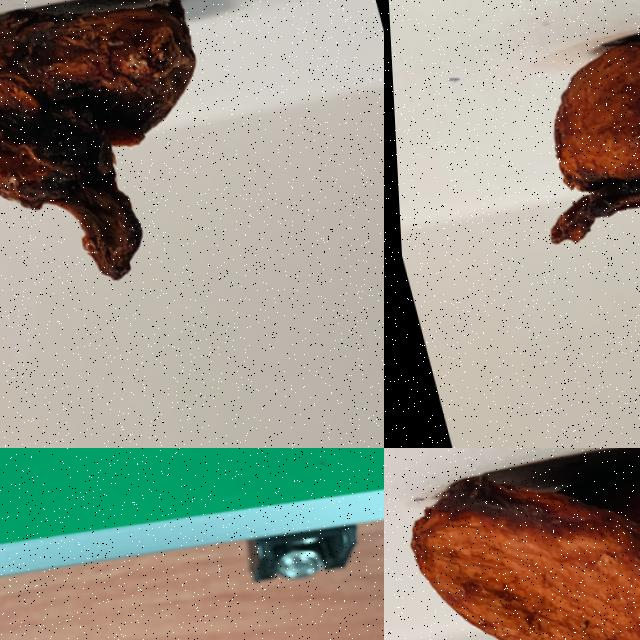Agglomerated_cocoabeans: (0, 0, 345, 347), (384, 0, 639, 308), (384, 448, 639, 639)
